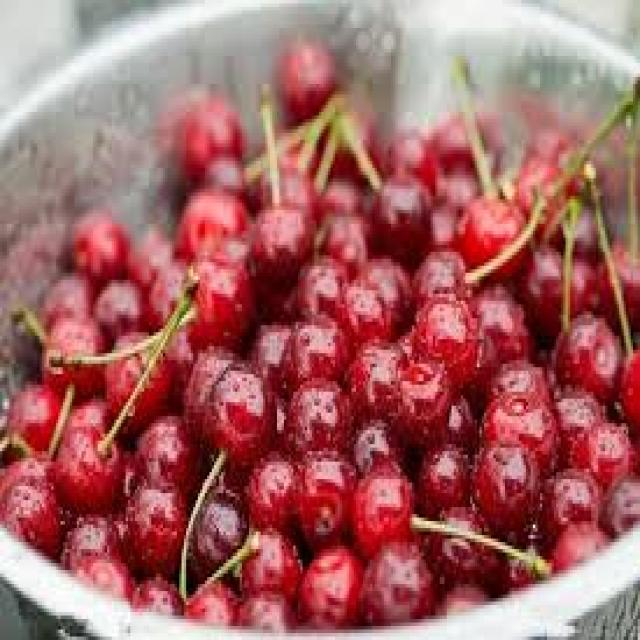organic waste: (200, 356, 275, 476), (116, 472, 188, 581), (180, 242, 252, 346), (514, 133, 577, 245), (105, 322, 170, 430), (412, 286, 482, 384), (424, 500, 505, 584), (470, 441, 540, 538), (293, 440, 356, 546), (274, 311, 352, 395), (477, 388, 561, 465), (360, 164, 430, 256), (451, 192, 533, 270), (549, 307, 619, 398), (358, 532, 431, 616), (54, 413, 118, 507), (247, 200, 310, 290), (282, 371, 352, 451), (132, 413, 195, 500), (472, 280, 536, 364), (547, 381, 605, 472), (352, 454, 409, 546), (191, 476, 244, 574), (386, 357, 449, 437), (536, 465, 600, 542), (42, 314, 105, 392), (0, 476, 61, 556), (314, 105, 377, 182), (296, 542, 360, 616), (184, 94, 240, 178), (184, 339, 235, 430), (354, 252, 409, 336), (591, 238, 638, 336), (5, 378, 65, 454), (233, 521, 298, 591), (175, 185, 242, 252), (242, 448, 298, 528), (274, 38, 332, 112), (319, 108, 382, 175), (375, 119, 440, 182), (124, 213, 174, 294), (570, 416, 633, 479), (519, 242, 563, 332), (56, 511, 116, 577), (412, 441, 465, 514), (314, 203, 366, 276), (70, 210, 126, 276), (247, 315, 293, 395), (156, 308, 198, 395), (293, 248, 349, 312), (332, 273, 388, 336), (426, 101, 482, 161), (347, 409, 402, 469), (74, 542, 130, 598), (0, 448, 49, 510), (258, 158, 312, 214), (498, 532, 549, 591), (552, 514, 605, 570), (410, 245, 466, 297), (552, 192, 598, 255), (232, 580, 288, 630), (180, 570, 230, 623), (91, 276, 144, 326), (130, 566, 182, 616), (486, 353, 547, 395), (612, 342, 638, 440), (38, 273, 88, 322), (600, 472, 638, 535), (424, 574, 494, 608), (470, 329, 500, 402), (310, 172, 354, 220), (200, 147, 244, 192), (431, 161, 477, 203), (144, 269, 186, 315), (442, 381, 473, 441), (563, 252, 591, 311), (58, 392, 105, 426), (426, 196, 454, 248), (288, 609, 344, 626)
